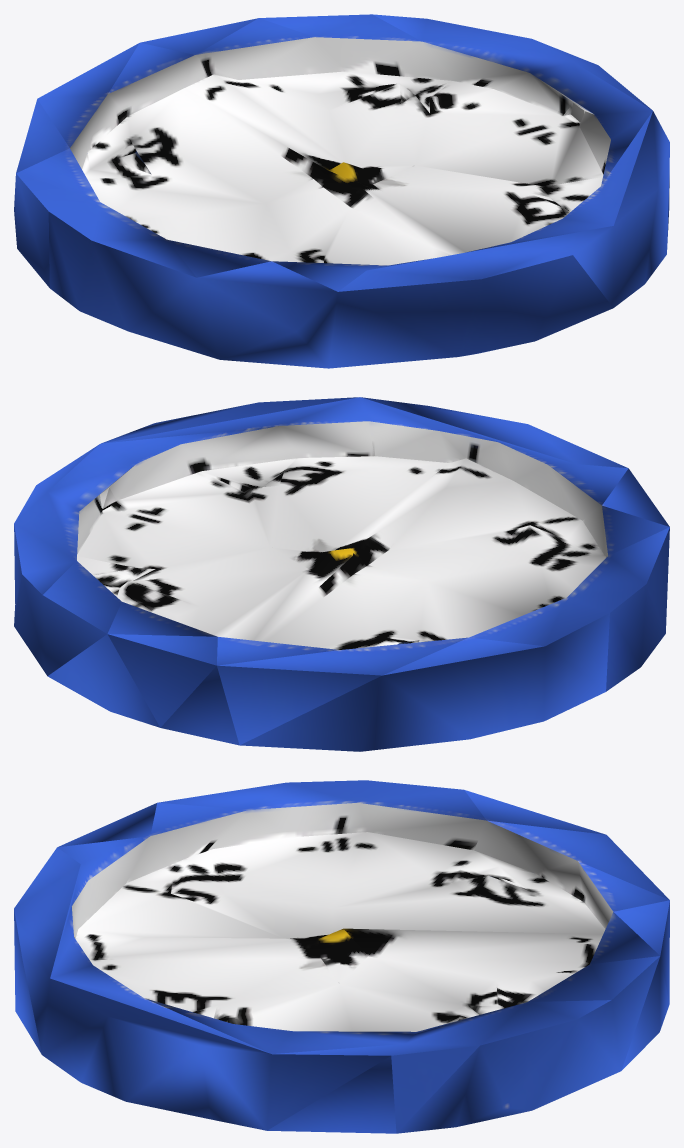
File: wall-clock.glb
The picture shows the model from 3 angles, top to bottom: view 1: azimuth 30°, elevation 25°; view 2: azimuth 150°, elevation 25°; view 3: azimuth 270°, elevation 25°; orthographic projection.
Parts seen in each view (by area): view 1: geometry_0; view 2: geometry_0; view 3: geometry_0.
Part boxes in pixels (x1,y1,x2,y2): geometry_0: (14, 14, 669, 368); geometry_0: (14, 397, 669, 751); geometry_0: (14, 780, 669, 1133).
Bounding box in the file's own units: 0.9885 × 0.1437 × 0.9951.
Materials: 1 (1 with a texture image).
